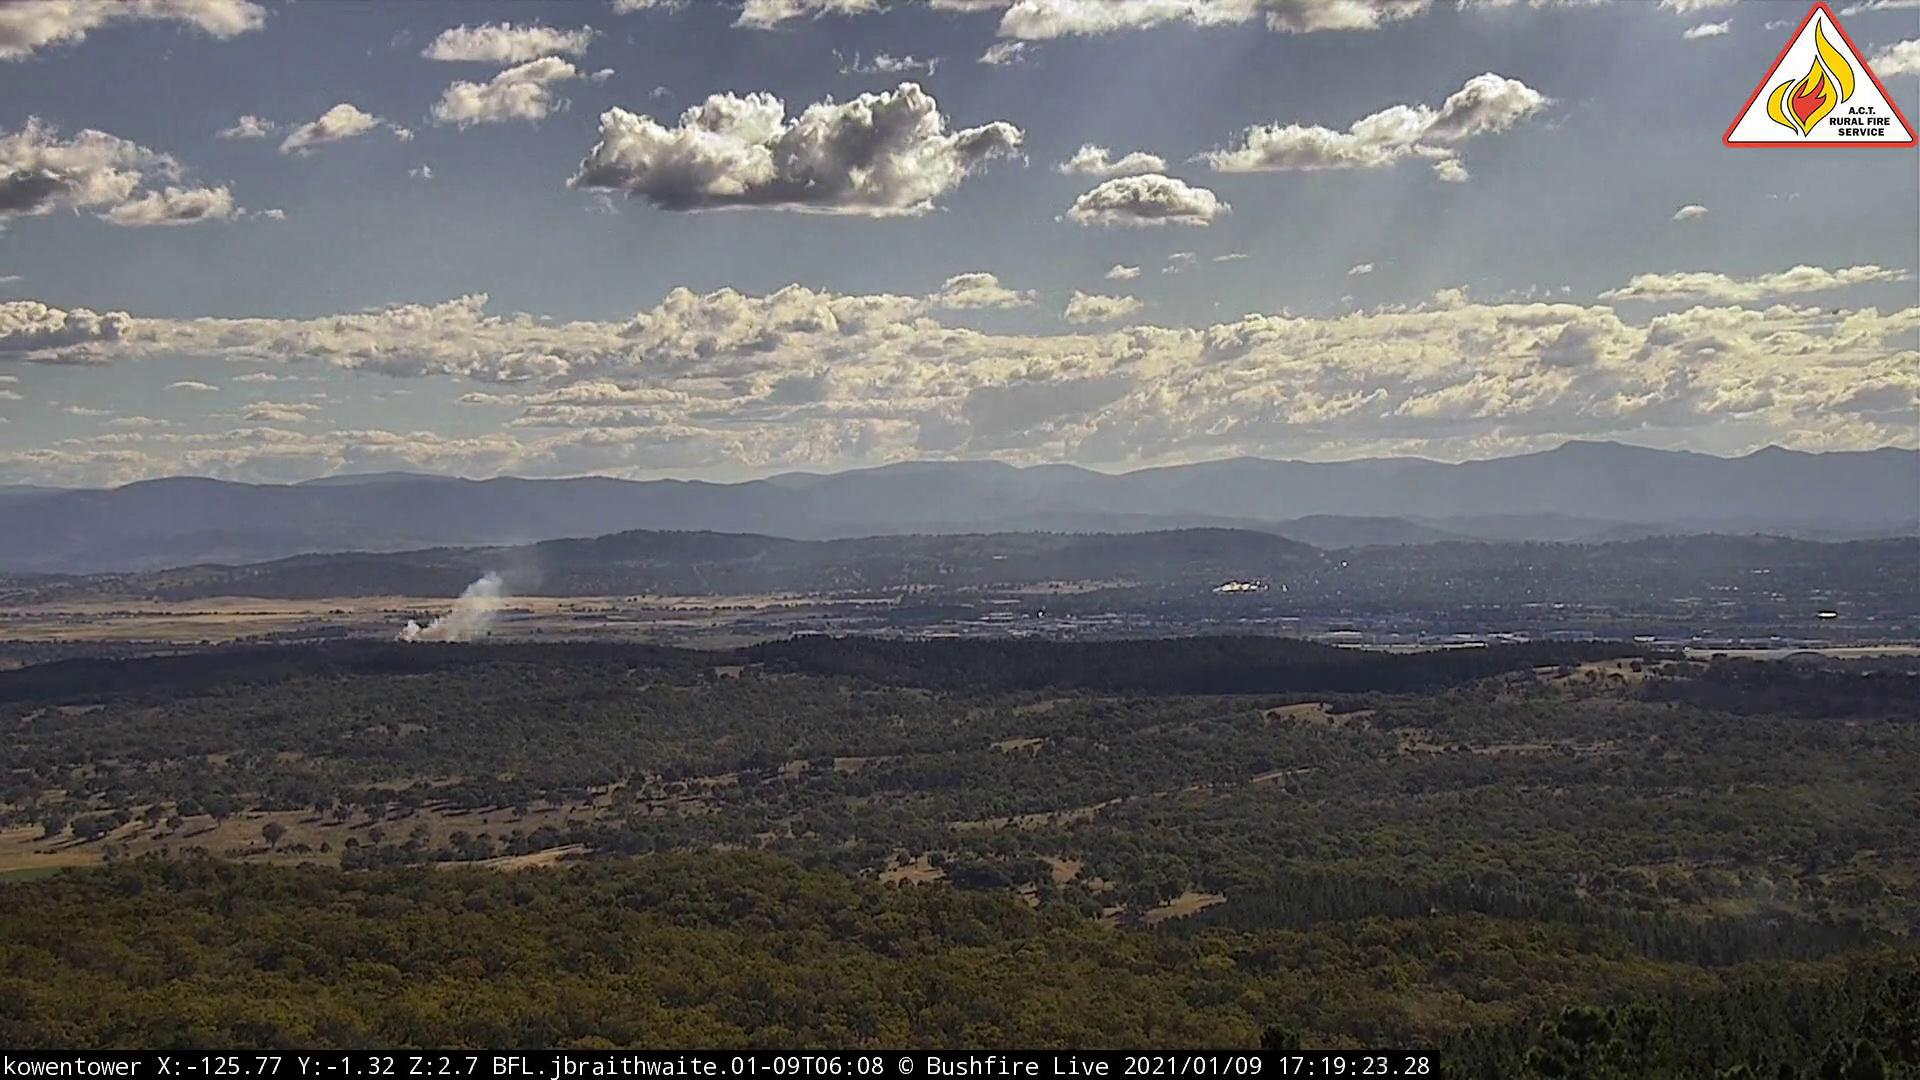instance_salient_object: (377, 537, 559, 649)
